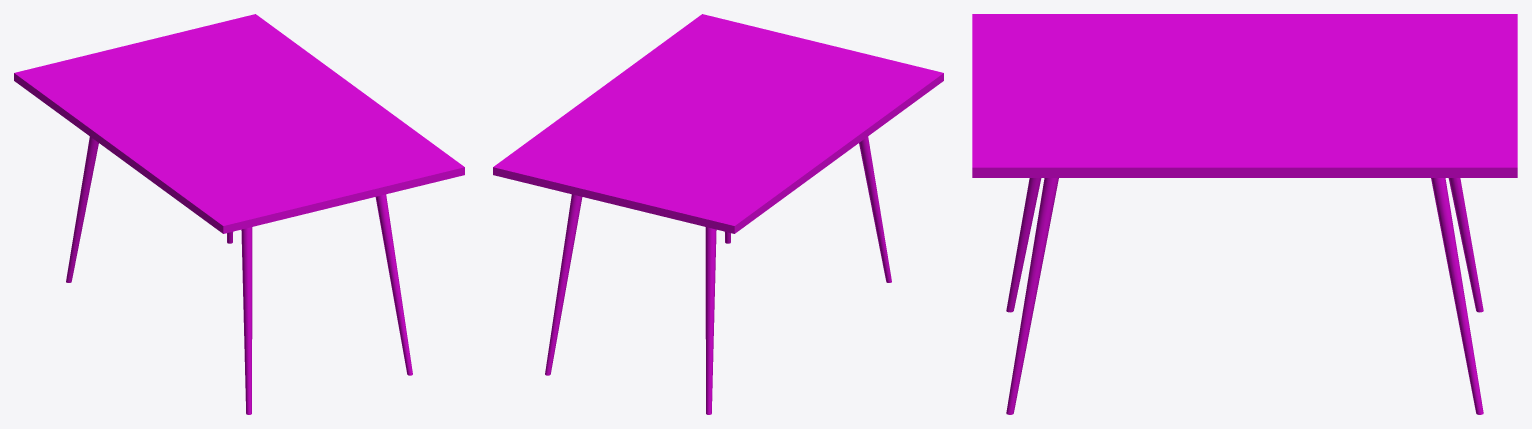
The model's file is OM_3BHK_DM_Dining_Table.fbx.
The picture shows the model from 3 angles, left to right: view 1: azimuth 30°, elevation 25°; view 2: azimuth 150°, elevation 25°; view 3: azimuth 270°, elevation 25°; orthographic projection. The views are drawn at different scales.
Parts seen in each view (by area): view 1: OM_3BHK_DM_Dining_Table; view 2: OM_3BHK_DM_Dining_Table; view 3: OM_3BHK_DM_Dining_Table.
Part boxes in pixels (x1,y1,x2,y2): OM_3BHK_DM_Dining_Table: [14, 14, 464, 414]; OM_3BHK_DM_Dining_Table: [493, 14, 943, 414]; OM_3BHK_DM_Dining_Table: [972, 14, 1517, 414].
Size of the model in its own units: 4 by 3.29 by 6.
